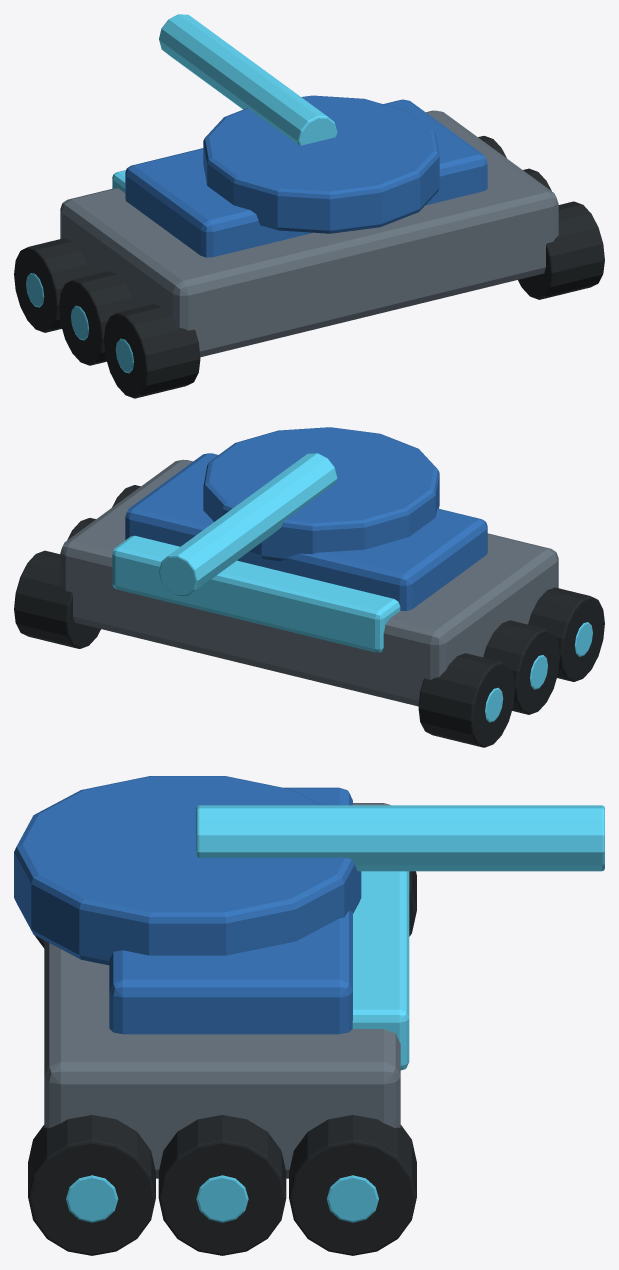
Rendered from SM_Alliance_AL_OracleArtillery.fbx.
3 views of the same model, one above another, from view 1: azimuth 30°, elevation 25°; view 2: azimuth 150°, elevation 25°; view 3: azimuth 270°, elevation 25° (orthographic). The views are drawn at different scales.
Visible parts, largest first — view 1: SM_Alliance_AL_OracleArtillery, SM_Alliance_AL_OracleArtillery_Turret, SM_Alliance_AL_OracleArtillery_UpperHull, SM_Alliance_AL_OracleArtillery_ArtilleryBarrel, SM_Alliance_AL_OracleArtillery_Wheel_00, SM_Alliance_AL_OracleArtillery_Wheel_03, SM_Alliance_AL_OracleArtillery_Wheel_02, SM_Alliance_AL_OracleArtillery_Wheel_01; view 2: SM_Alliance_AL_OracleArtillery, SM_Alliance_AL_OracleArtillery_Turret, SM_Alliance_AL_OracleArtillery_UpperHull, SM_Alliance_AL_OracleArtillery_Glacis, SM_Alliance_AL_OracleArtillery_ArtilleryBarrel, SM_Alliance_AL_OracleArtillery_Wheel_02, SM_Alliance_AL_OracleArtillery_Wheel_05, SM_Alliance_AL_OracleArtillery_Wheel_01, SM_Alliance_AL_OracleArtillery_Wheel_00, SM_Alliance_AL_OracleArtillery_Hub_02, SM_Alliance_AL_OracleArtillery_Hub_00, SM_Alliance_AL_OracleArtillery_Hub_01; view 3: SM_Alliance_AL_OracleArtillery_Turret, SM_Alliance_AL_OracleArtillery, SM_Alliance_AL_OracleArtillery_ArtilleryBarrel, SM_Alliance_AL_OracleArtillery_UpperHull, SM_Alliance_AL_OracleArtillery_Wheel_03, SM_Alliance_AL_OracleArtillery_Wheel_05, SM_Alliance_AL_OracleArtillery_Wheel_04, SM_Alliance_AL_OracleArtillery_Glacis, SM_Alliance_AL_OracleArtillery_Hub_04, SM_Alliance_AL_OracleArtillery_Hub_05, SM_Alliance_AL_OracleArtillery_Hub_03.
Part boxes in pixels (x1,y1,x2,y2): SM_Alliance_AL_OracleArtillery: [60, 110, 558, 357]; SM_Alliance_AL_OracleArtillery_Turret: [203, 95, 439, 233]; SM_Alliance_AL_OracleArtillery_UpperHull: [125, 99, 487, 257]; SM_Alliance_AL_OracleArtillery_ArtilleryBarrel: [159, 14, 337, 145]; SM_Alliance_AL_OracleArtillery_Wheel_00: [104, 304, 200, 398]; SM_Alliance_AL_OracleArtillery_Wheel_03: [518, 201, 604, 299]; SM_Alliance_AL_OracleArtillery_Wheel_02: [14, 238, 90, 332]; SM_Alliance_AL_OracleArtillery_Wheel_01: [59, 271, 135, 365]; SM_Alliance_AL_OracleArtillery: [60, 459, 558, 706]; SM_Alliance_AL_OracleArtillery_Turret: [203, 427, 439, 561]; SM_Alliance_AL_OracleArtillery_UpperHull: [125, 453, 487, 610]; SM_Alliance_AL_OracleArtillery_Glacis: [112, 535, 400, 652]; SM_Alliance_AL_OracleArtillery_ArtilleryBarrel: [159, 453, 337, 596]; SM_Alliance_AL_OracleArtillery_Wheel_02: [418, 653, 515, 747]; SM_Alliance_AL_OracleArtillery_Wheel_05: [14, 550, 100, 648]; SM_Alliance_AL_OracleArtillery_Wheel_01: [483, 620, 559, 714]; SM_Alliance_AL_OracleArtillery_Wheel_00: [528, 587, 604, 681]; SM_Alliance_AL_OracleArtillery_Hub_02: [485, 687, 503, 722]; SM_Alliance_AL_OracleArtillery_Hub_00: [574, 622, 592, 656]; SM_Alliance_AL_OracleArtillery_Hub_01: [530, 655, 547, 689]; SM_Alliance_AL_OracleArtillery_Turret: [14, 776, 361, 965]; SM_Alliance_AL_OracleArtillery: [44, 803, 400, 1178]; SM_Alliance_AL_OracleArtillery_ArtilleryBarrel: [196, 805, 604, 871]; SM_Alliance_AL_OracleArtillery_UpperHull: [109, 787, 352, 1034]; SM_Alliance_AL_OracleArtillery_Wheel_03: [28, 1115, 155, 1255]; SM_Alliance_AL_OracleArtillery_Wheel_05: [289, 1115, 416, 1255]; SM_Alliance_AL_OracleArtillery_Wheel_04: [158, 1115, 286, 1255]; SM_Alliance_AL_OracleArtillery_Glacis: [352, 871, 409, 1070]; SM_Alliance_AL_OracleArtillery_Hub_04: [196, 1175, 248, 1222]; SM_Alliance_AL_OracleArtillery_Hub_05: [326, 1175, 378, 1222]; SM_Alliance_AL_OracleArtillery_Hub_03: [66, 1175, 118, 1222].
Size of what is drawn, in the model's own units: 551 by 422 by 225.
